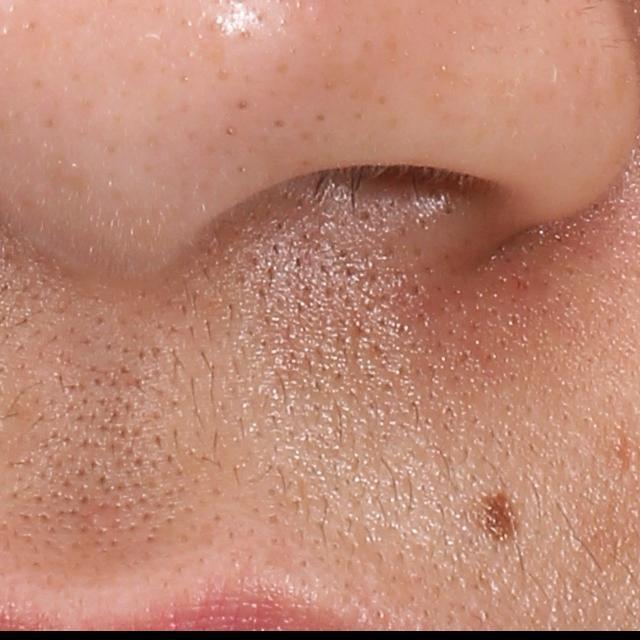nevus: (474, 491, 525, 542)
